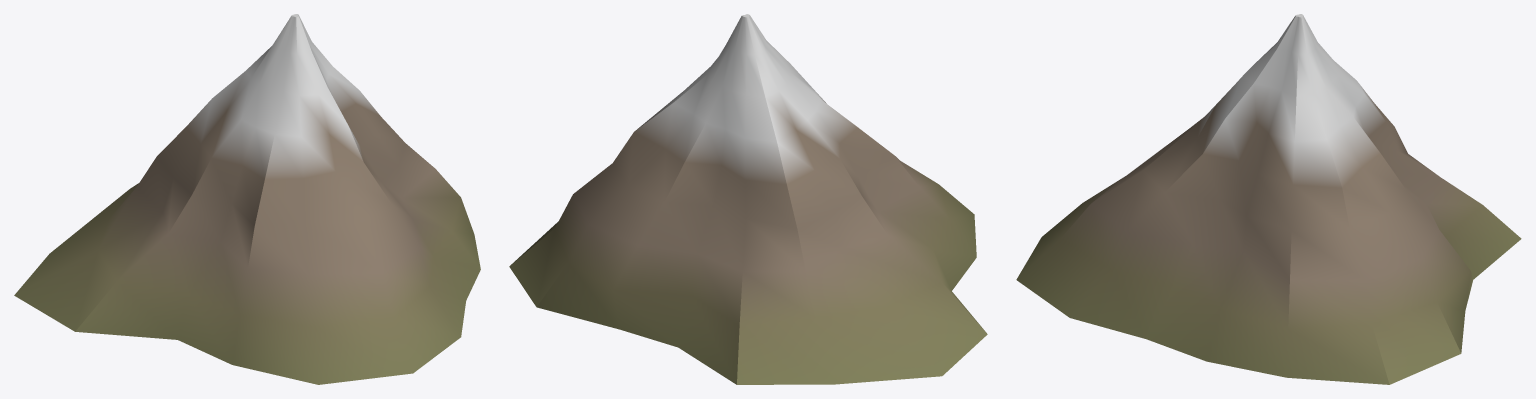
The model's file is andes_peak.glb.
3 views of the same model, side by side, from view 1: azimuth 30°, elevation 25°; view 2: azimuth 150°, elevation 25°; view 3: azimuth 270°, elevation 25° (orthographic). The views are drawn at different scales.
Parts seen in each view (by area): view 1: andes_peak_mesh; view 2: andes_peak_mesh; view 3: andes_peak_mesh.
Boxes of the visible parts, x1,y1,x2,y2 form: andes_peak_mesh: [14, 14, 480, 384]; andes_peak_mesh: [509, 14, 987, 384]; andes_peak_mesh: [1016, 14, 1521, 384].
Bounding box in the file's own units: 79.2 × 46 × 77.33.
